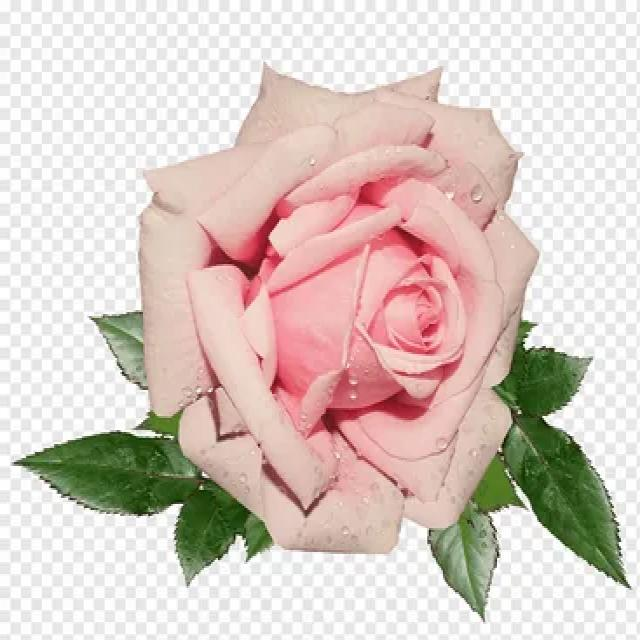rose: (111, 45, 547, 568)
